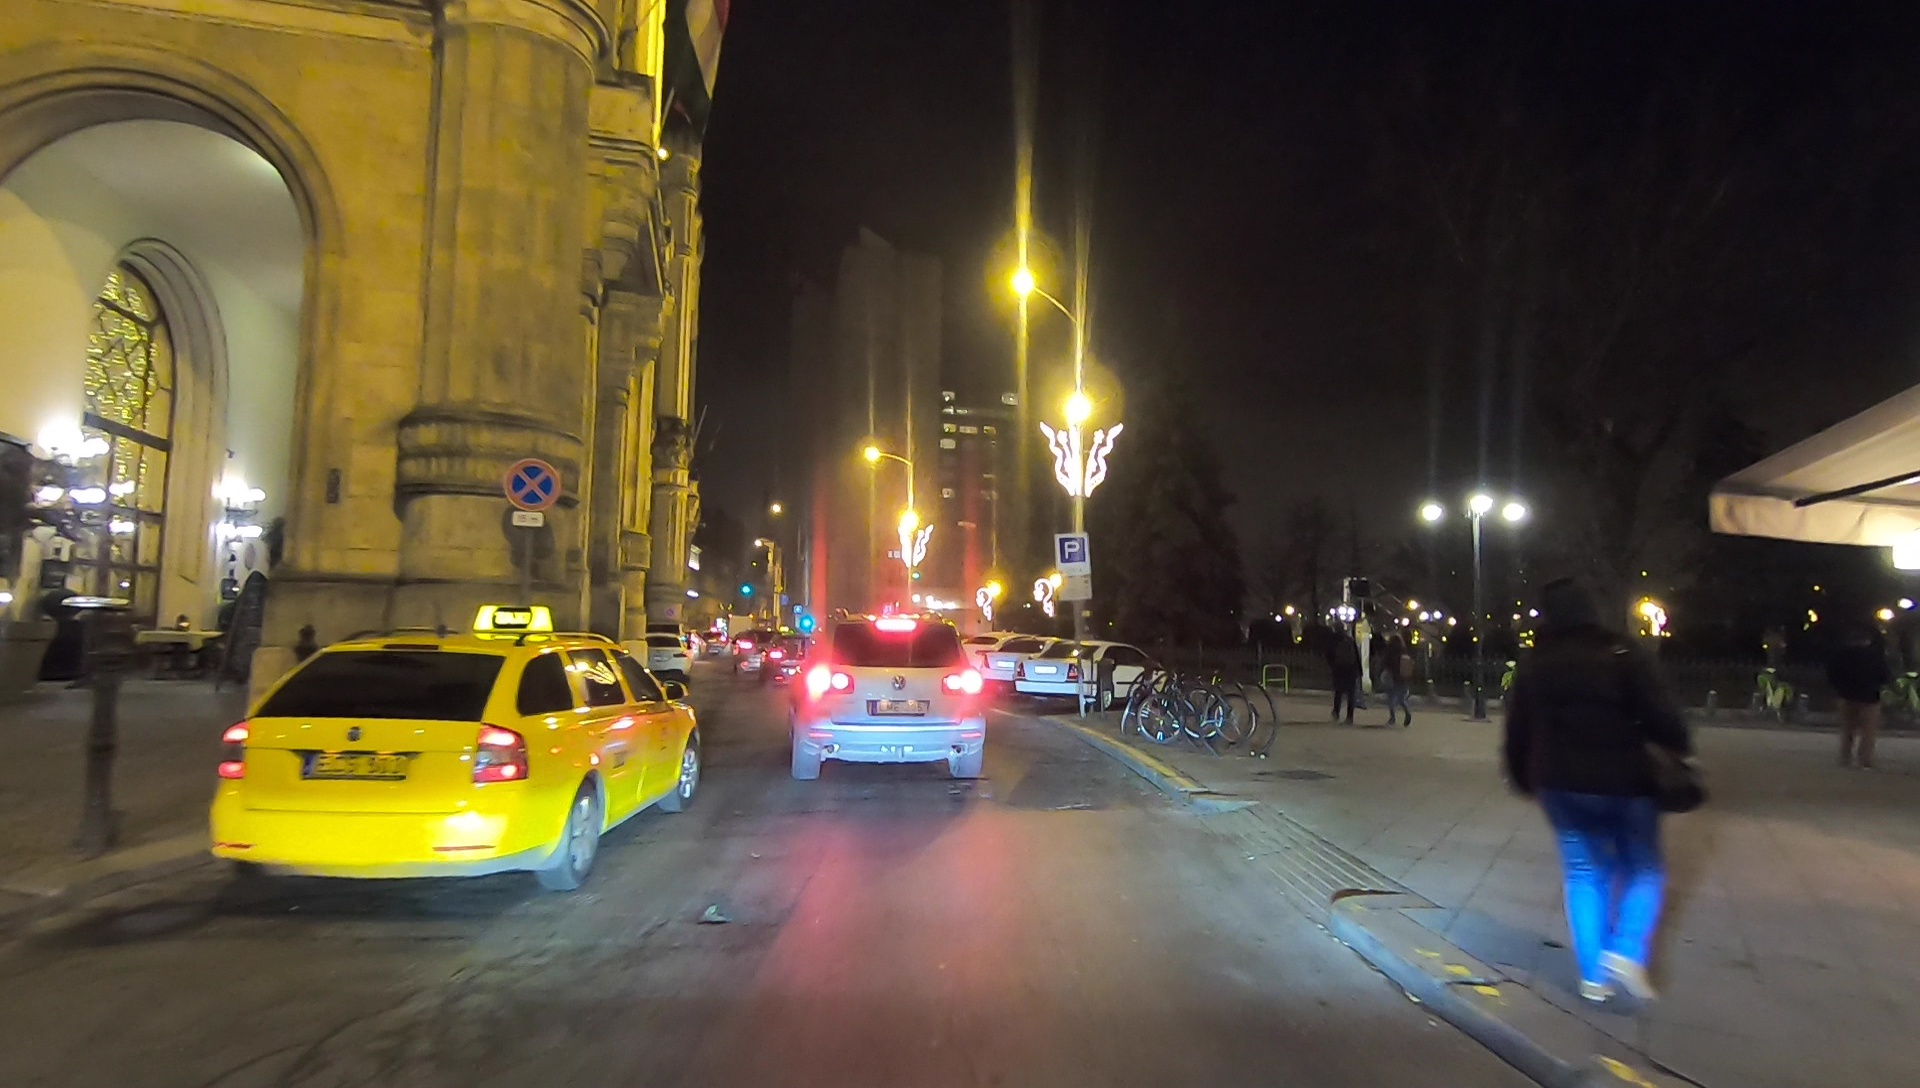person: (1491, 571, 1688, 1008), (1836, 621, 1888, 769), (1321, 623, 1360, 726), (1376, 630, 1415, 726)
